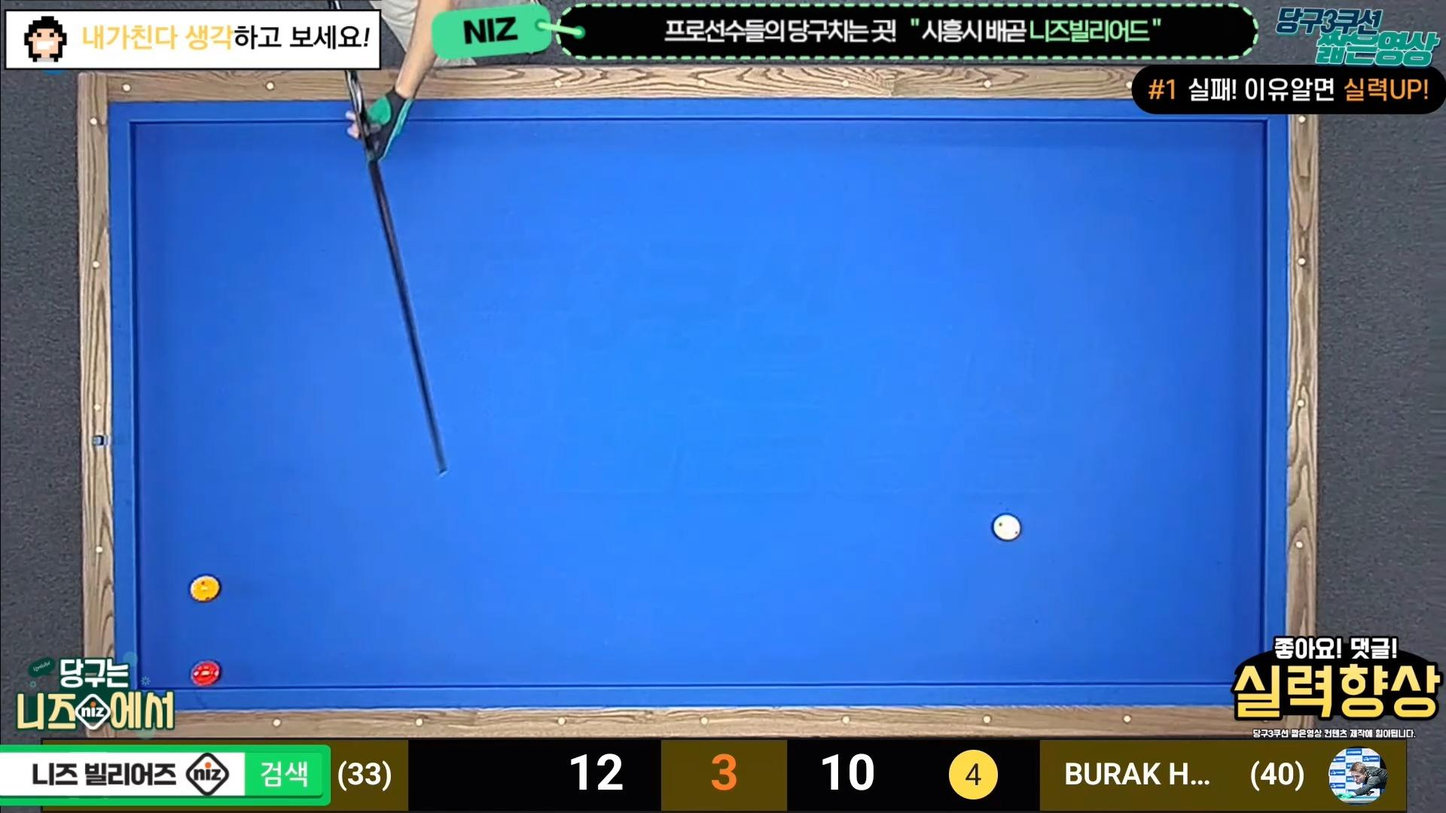-billiard-ball: (991, 513, 1021, 542)
Red: (193, 661, 227, 687)
White: (993, 515, 1028, 544)
Yellow: (191, 575, 226, 603)
